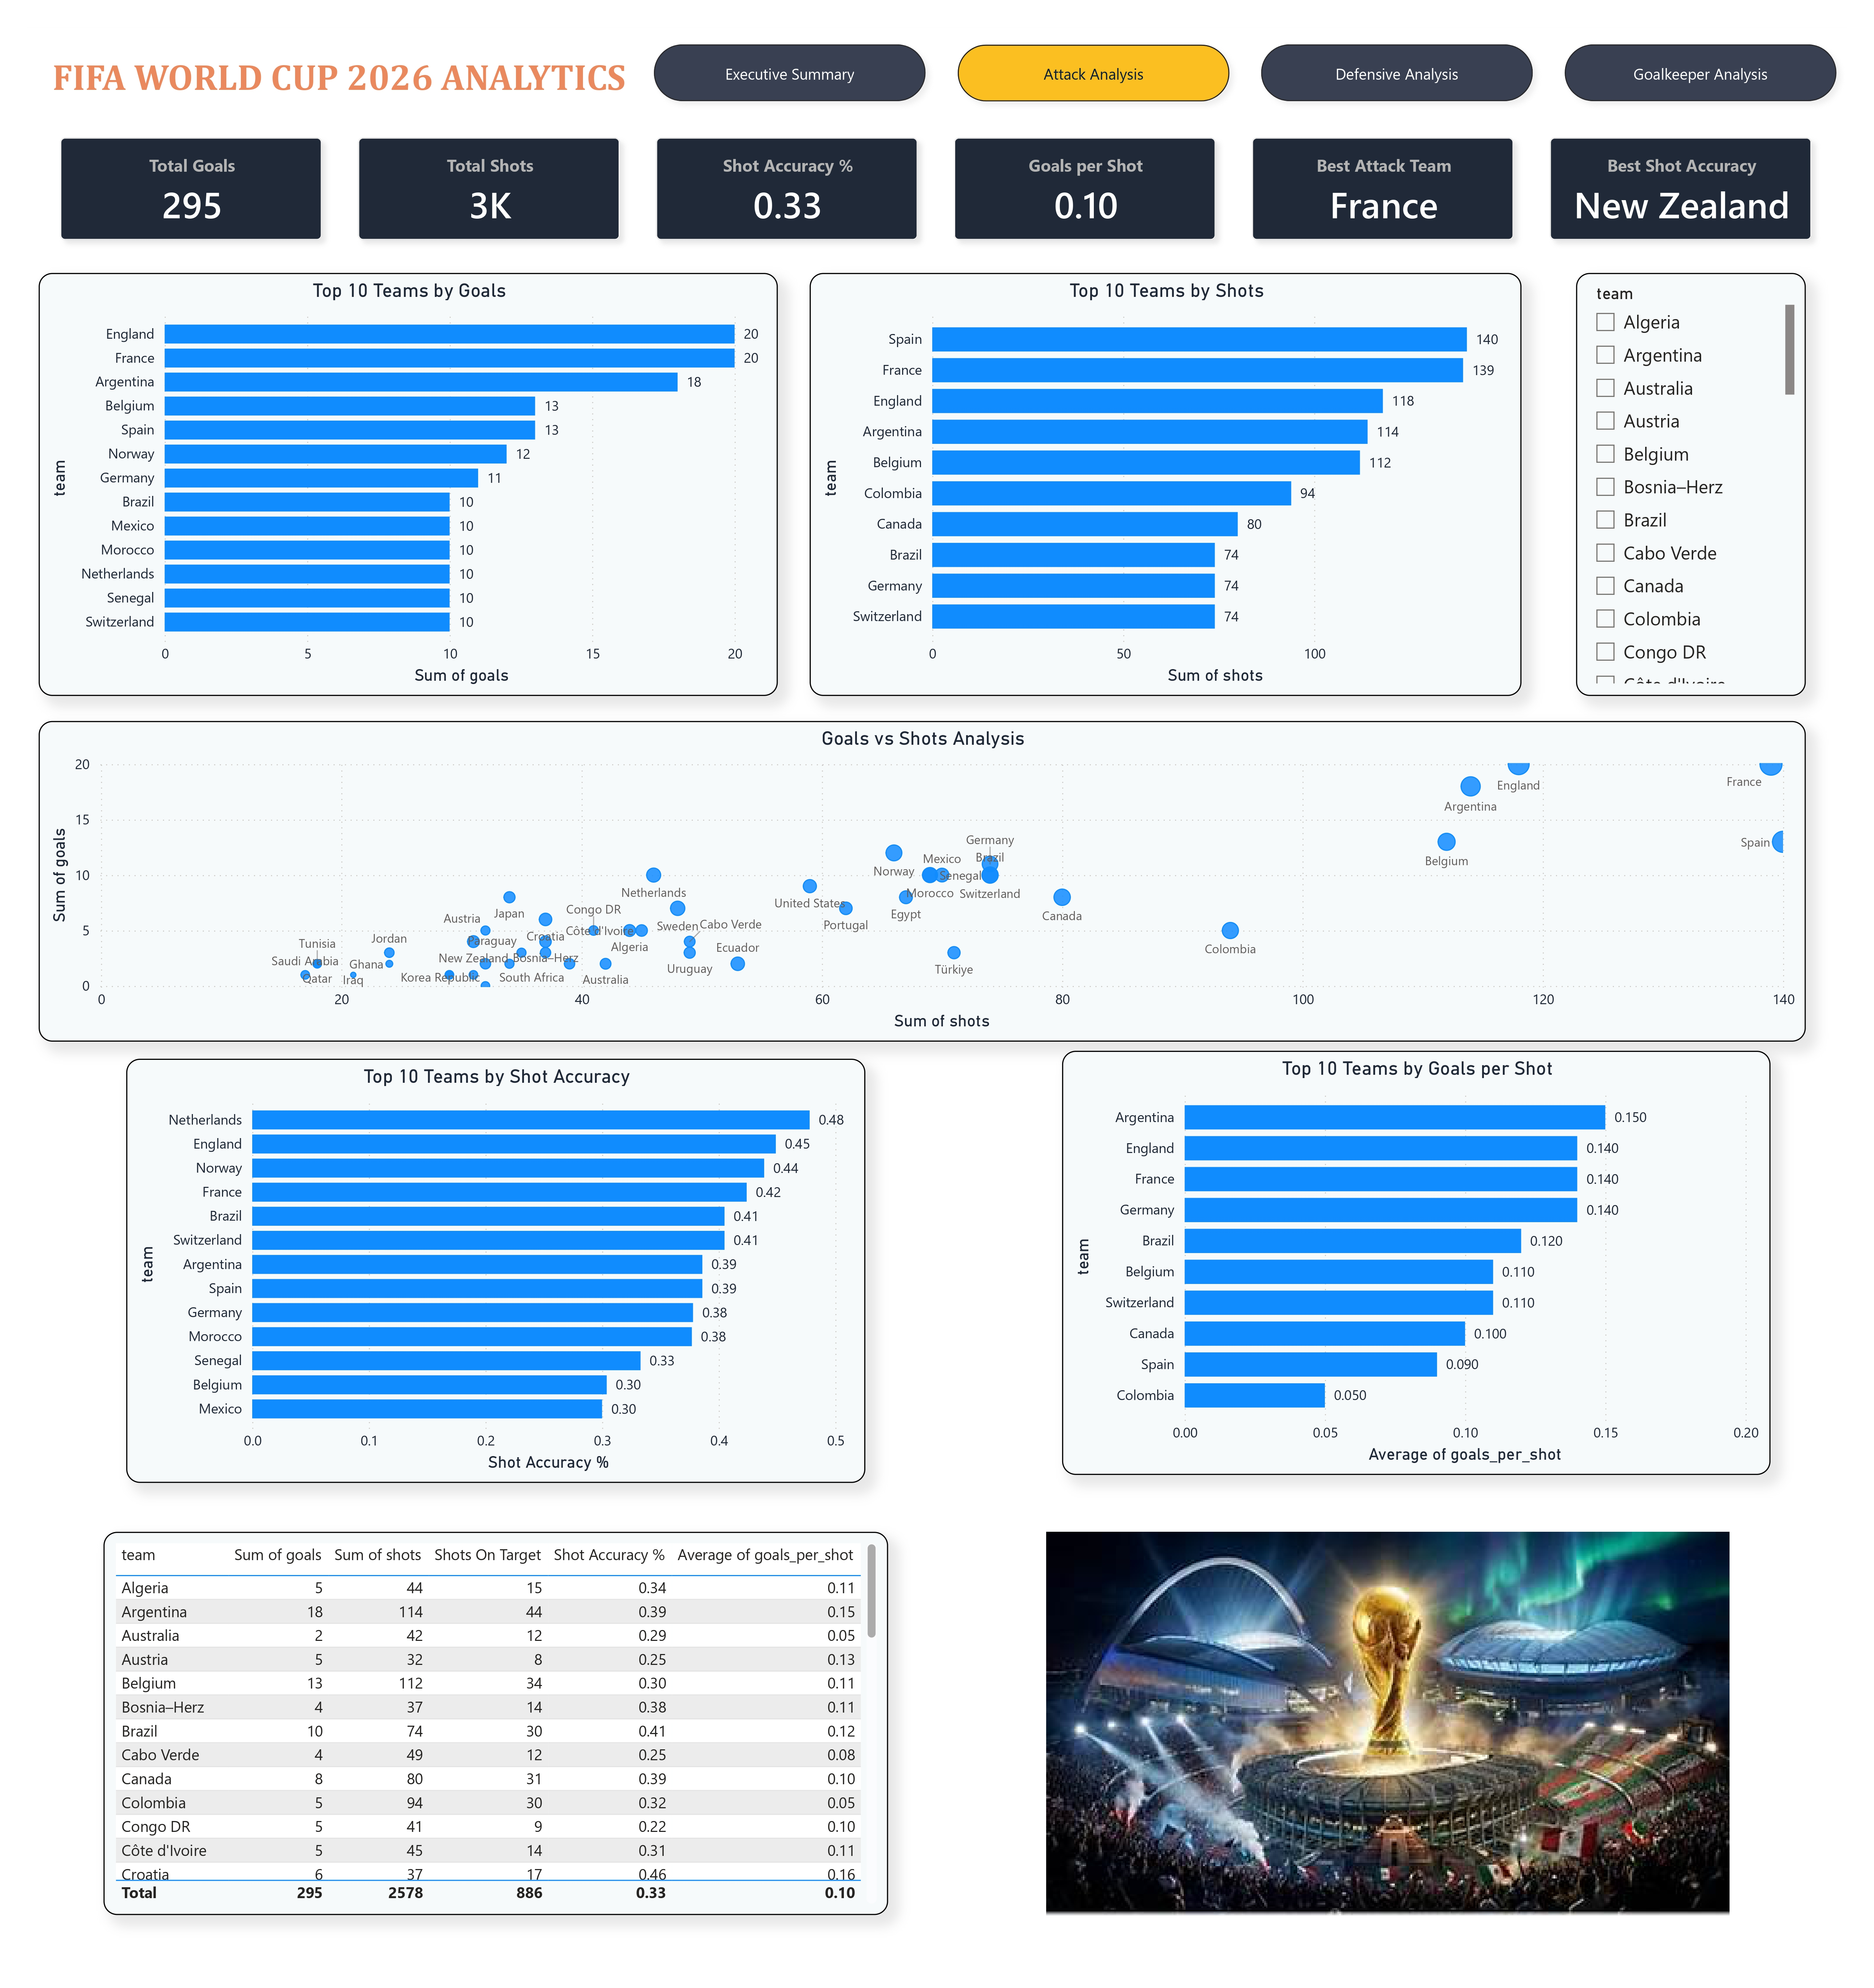

The dashboard page shown, as its layout file describes it:
{"tool":"powerbi","page":{"name":"Attack Analysis","canvas":[1600,1700],"ordinal":1},"visuals":[{"type":"cardVisual","fields":{"Data":["teams csv.Total Goals","teams csv.Total Shots","teams csv.Shot Accuracy %","Avg(teams csv.goals_per_shot)","teams csv.Best Attack Team","teams csv.Best Shot Accuracy"]},"box":[0,68,1600,148],"z":0},{"type":"clusteredBarChart","title":"Top 10 Teams by Goals","fields":{"Category":["teams csv.team"],"Y":["Sum(teams csv.goals)"]},"box":[10,216,650,372],"z":1000},{"type":"clusteredBarChart","title":"Top 10 Teams by Shots","fields":{"Category":["teams csv.team"],"Y":["Sum(teams csv.shots)"]},"box":[688,216,626,372],"z":2000},{"type":"scatterChart","title":"Goals vs Shots Analysis","fields":{"X":["Sum(teams csv.shots)"],"Y":["Sum(teams csv.goals)"],"Category":["teams csv.team"],"Size":["Sum(teams csv.shots_on_target)"]},"box":[10,610,1554,282],"z":3000},{"type":"slicer","title":"Possession vs Goals","fields":{"Values":["teams csv.team"]},"box":[1362,216,202,372],"z":4000},{"type":"textbox","box":[10,20,531.7,48.3],"z":5000},{"type":"pageNavigator","box":[541.7,5.8,1058.3,68.3],"z":6000},{"type":"clusteredBarChart","title":"Top 10 Teams by Shot Accuracy","fields":{"Category":["teams csv.team"],"Y":["teams csv.Shot Accuracy %"]},"box":[86.7,906.7,650,373.3],"z":7000},{"type":"clusteredBarChart","title":"Top 10 Teams by Goals per Shot","fields":{"Category":["teams csv.team"],"Y":["Avg(teams csv.goals_per_shot)"]},"box":[910,900,623.3,373.3],"z":8000},{"type":"tableEx","title":"Possession vs Goals","fields":{"Values":["teams csv.team","Sum(teams csv.goals)","Sum(teams csv.shots)","teams csv.Shots On Target","teams csv.Shot Accuracy %","Avg(teams csv.goals_per_shot)"]},"box":[66.7,1323.3,690,336.7],"z":9000},{"type":"image","box":[793.3,1323.3,806.7,336.7],"z":10000}]}

Visuals, with their boxes in screenshot pixels (x1, y1, x2, y2), scaled from the page's 1600x1700 canvas onto the 1874x1988 screenshot:
cardVisual - teams csv.Total Goals x teams csv.Total Shots: x1=0, y1=80, x2=1874, y2=253
"Top 10 Teams by Goals" clusteredBarChart: x1=12, y1=253, x2=773, y2=688
"Top 10 Teams by Shots" clusteredBarChart: x1=806, y1=253, x2=1539, y2=688
"Goals vs Shots Analysis" scatterChart: x1=12, y1=713, x2=1832, y2=1043
"Possession vs Goals" slicer: x1=1595, y1=253, x2=1832, y2=688
textbox: x1=12, y1=23, x2=635, y2=80
pageNavigator: x1=635, y1=7, x2=1874, y2=87
"Top 10 Teams by Shot Accuracy" clusteredBarChart: x1=102, y1=1060, x2=863, y2=1497
"Top 10 Teams by Goals per Shot" clusteredBarChart: x1=1066, y1=1053, x2=1796, y2=1489
"Possession vs Goals" tableEx: x1=78, y1=1547, x2=886, y2=1941
image: x1=929, y1=1547, x2=1874, y2=1941
